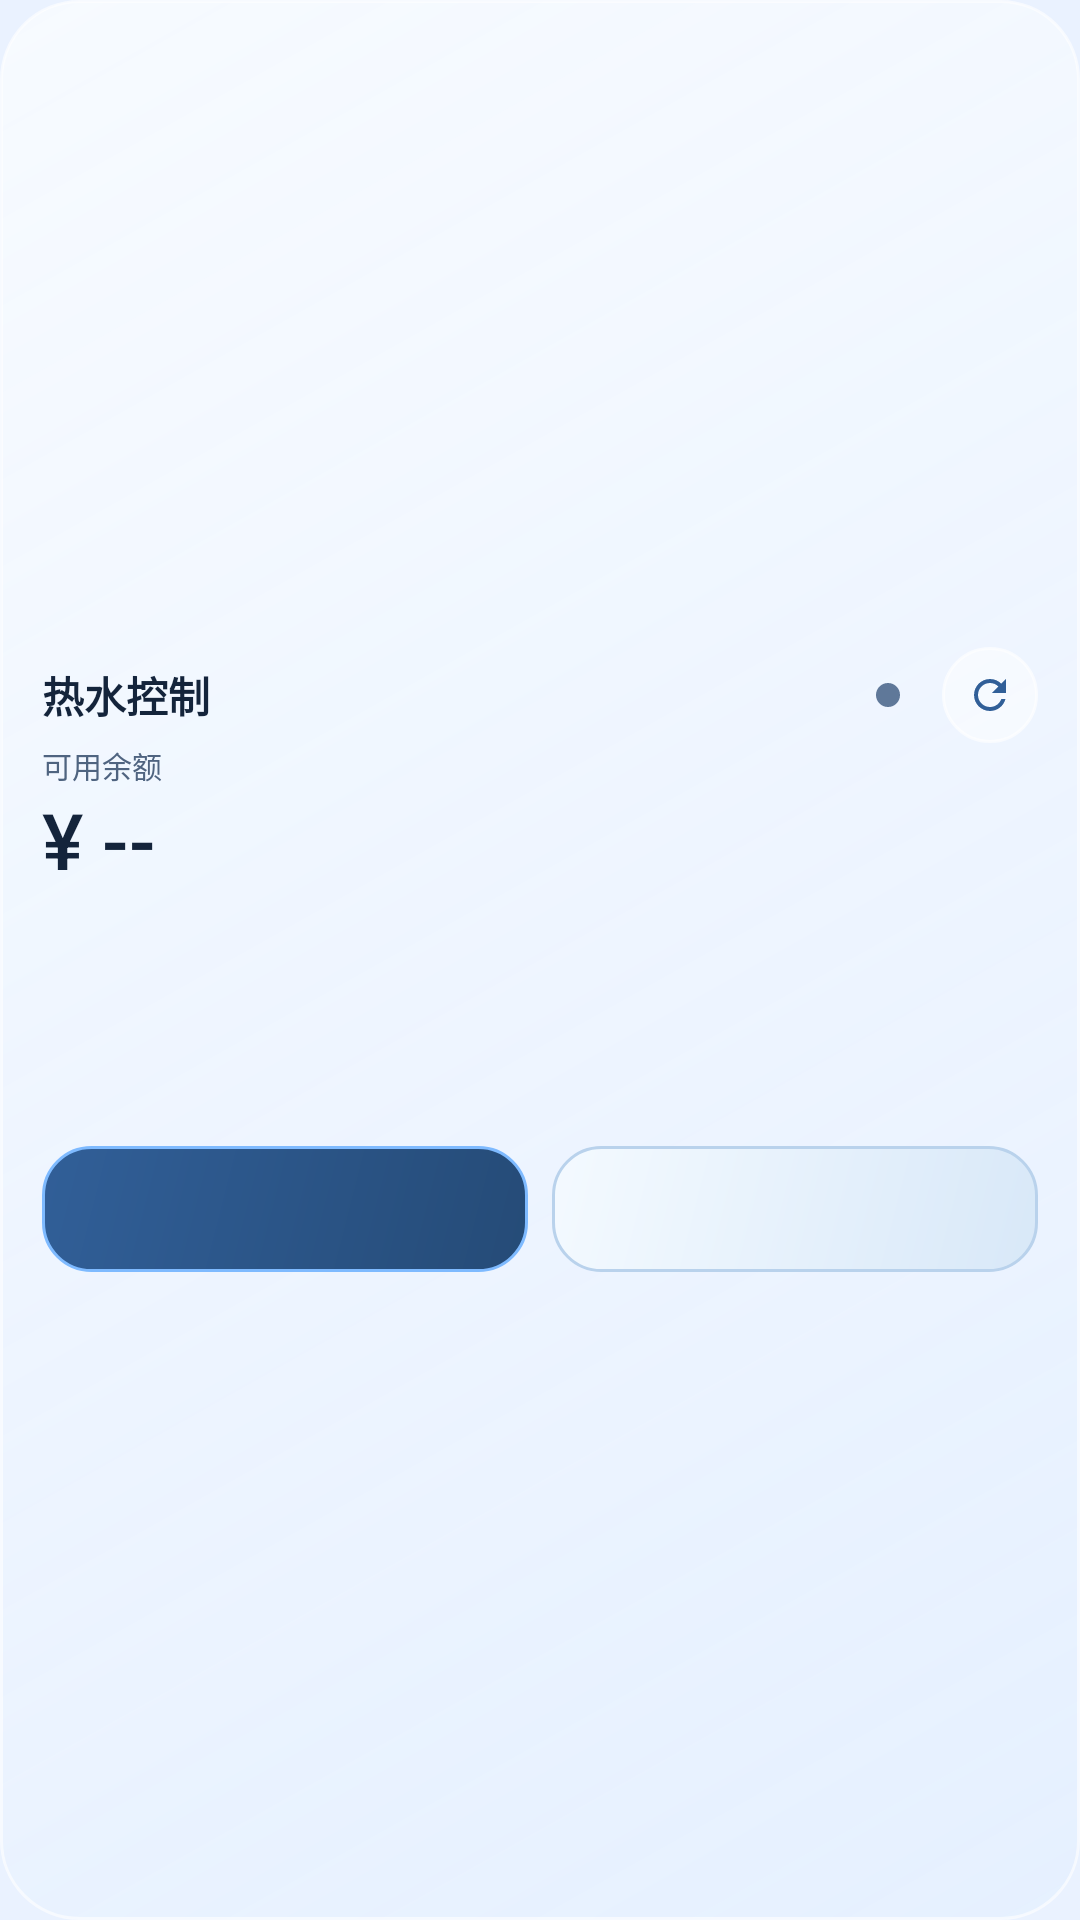

Named icons in this screenshot (1080px x 1920px) and their bounding boxes, (x1, y1, x2, y2):
刷新状态: (974, 679, 1006, 711)
